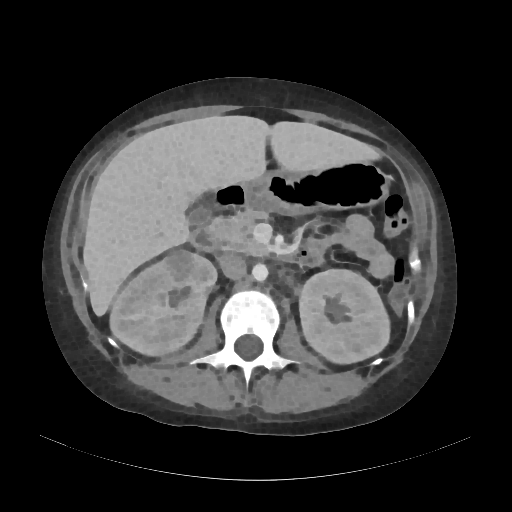Lesion: (160, 246, 201, 283)
